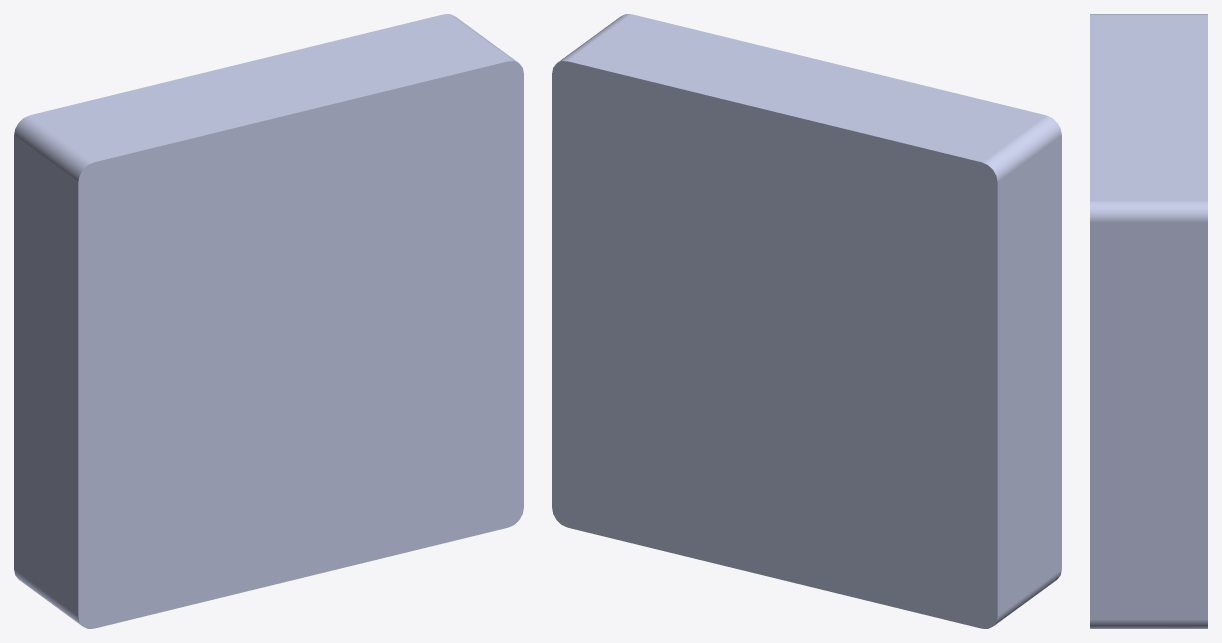
File: Tissue_NoHole.obj
3 views of the same model, side by side, from view 1: azimuth 30°, elevation 25°; view 2: azimuth 150°, elevation 25°; view 3: azimuth 270°, elevation 25° (orthographic). The views are drawn at different scales.
Visible parts, largest first — view 1: mesh 1 Tissue_NoHole; view 2: mesh 1 Tissue_NoHole; view 3: mesh 1 Tissue_NoHole.
Part boxes in pixels (left/top/right/bottom): mesh 1 Tissue_NoHole: left=14, top=14, right=523, bottom=628; mesh 1 Tissue_NoHole: left=552, top=14, right=1061, bottom=628; mesh 1 Tissue_NoHole: left=1090, top=14, right=1207, bottom=628.
Size of the model in its own units: 0.2 by 0.2 by 0.05.
